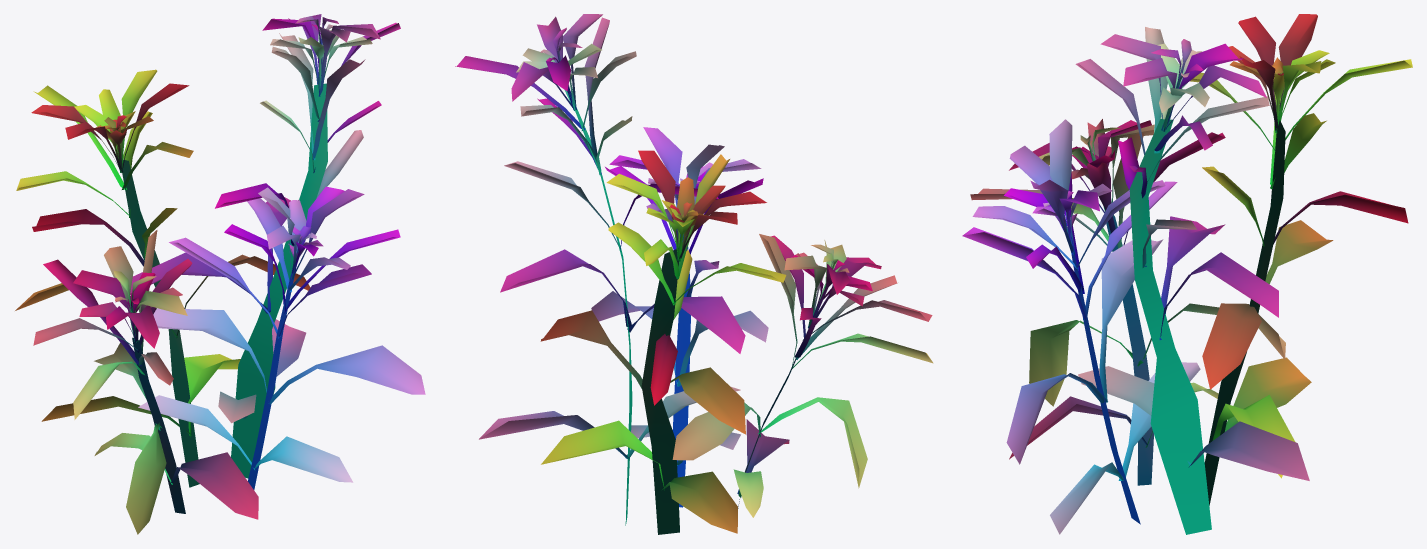
The model's file is Sage_ve3gbfoja_Mid_ve3gbfoja_VarE_LOD2.fbx.
3 renders of one model, left to right at view 1: azimuth 30°, elevation 25°; view 2: azimuth 150°, elevation 25°; view 3: azimuth 270°, elevation 25°, orthographic. The views are drawn at different scales.
Parts seen in each view (by area): view 1: _tzwj_VarE_LOD4; view 2: _tzwj_VarE_LOD4; view 3: _tzwj_VarE_LOD4.
Part boxes in pixels (<box>): _tzwj_VarE_LOD4: <box>15,14,425,534</box>; _tzwj_VarE_LOD4: <box>455,14,933,534</box>; _tzwj_VarE_LOD4: <box>962,14,1412,534</box>.
Bounding box in the file's own units: 54.59 × 57.38 × 43.96.
